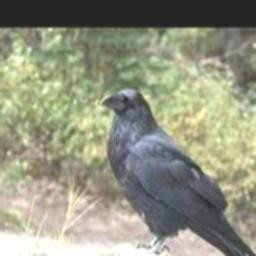Crow: (98, 87, 256, 256)
